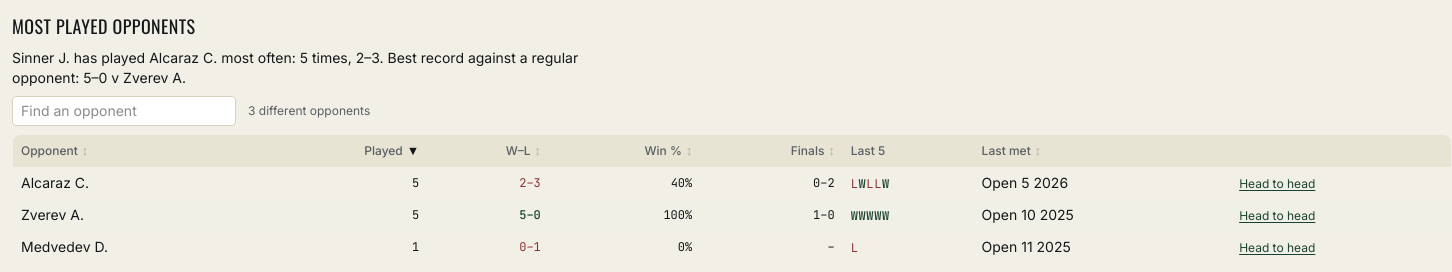
it: most played opponents › the player page table: links to the head to head, and a search
The image size is (1452, 272).
Expected: the table with test id "tennis-player-opponents" shows "Open 5 2026", top-left (982, 174), bottom-right (1068, 191)
Type "zve" into the search field with test id "tennis-opponent-search" at (124,111), box top-left (12, 96), bottom-right (236, 126)
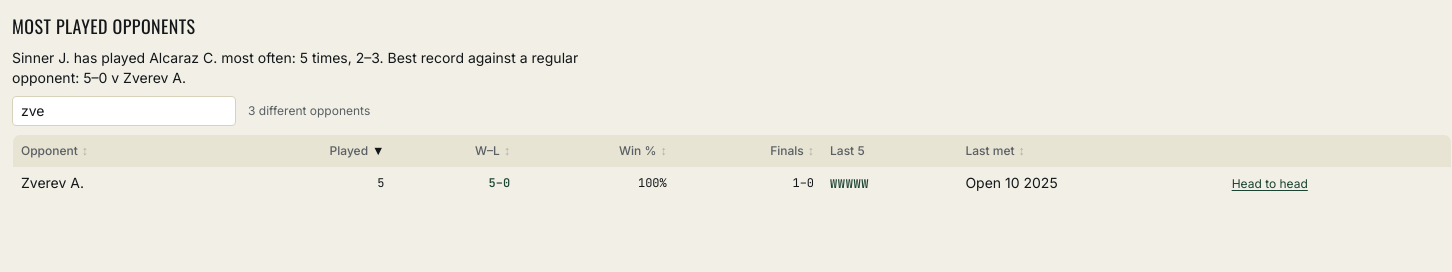
Now the number of rows is 2, box top-left (12, 134), bottom-right (1451, 167); top-left (12, 167), bottom-right (1451, 200)
